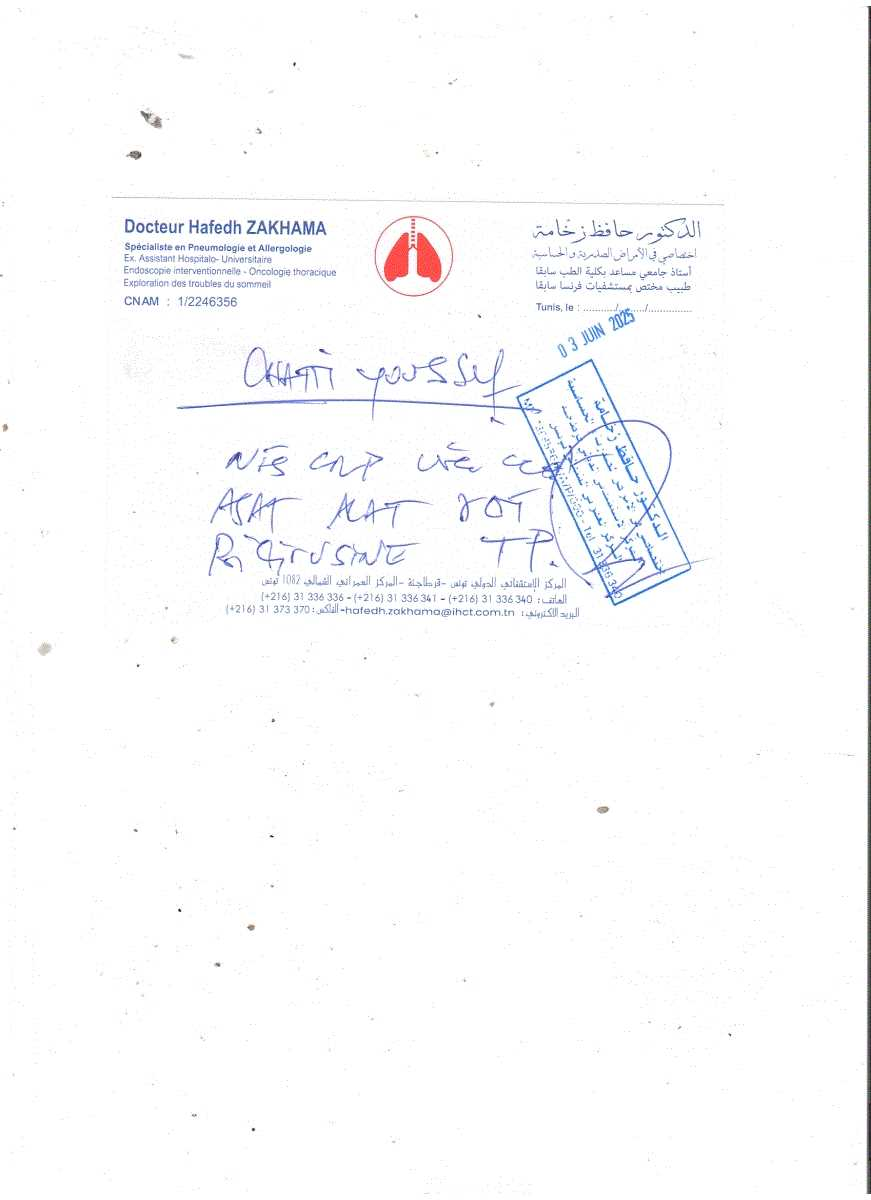zone_analyses: (215, 427, 547, 572)
zone_cachet: (516, 397, 604, 628)
zone_date: (208, 343, 516, 397)
zone_patient: (109, 201, 344, 330)
